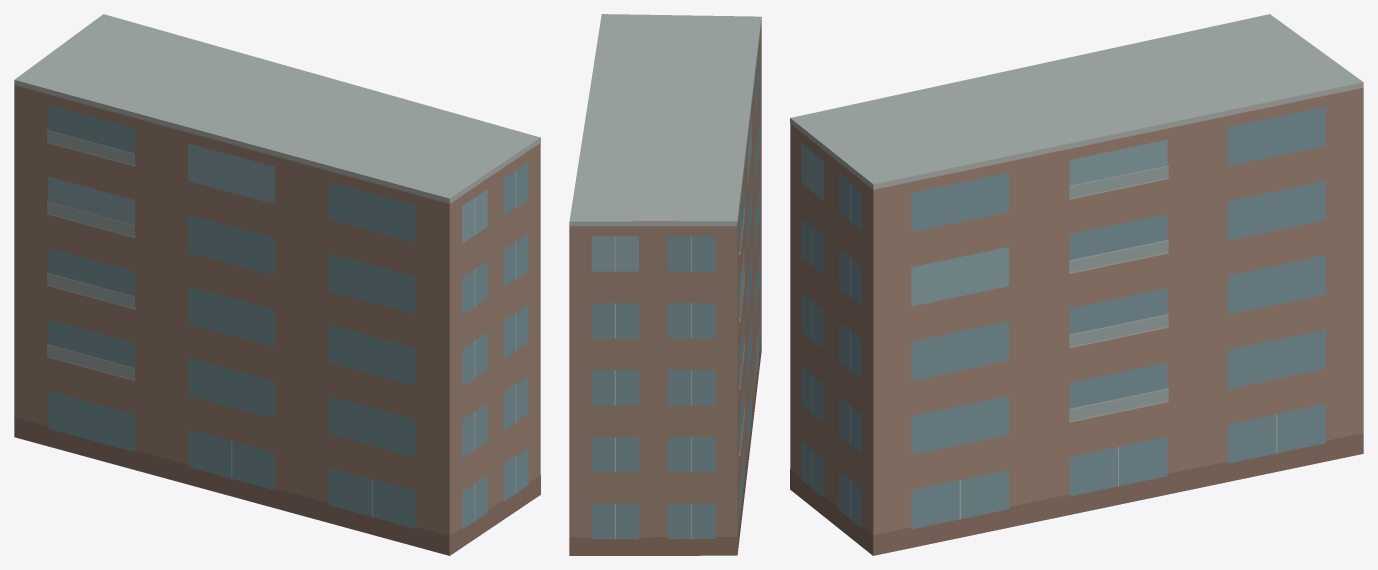
File: survey-upis-32929422.glb
The picture shows the model from 3 angles, left to right: view 1: azimuth 30°, elevation 25°; view 2: azimuth 150°, elevation 25°; view 3: azimuth 270°, elevation 25°; orthographic projection. The views are drawn at different scales.
Parts seen in each view (by area): view 1: survey-upis-32929422.tmp; view 2: survey-upis-32929422.tmp; view 3: survey-upis-32929422.tmp.
Part boxes in pixels (<box>): survey-upis-32929422.tmp: <box>14,14,540,555</box>; survey-upis-32929422.tmp: <box>569,14,761,555</box>; survey-upis-32929422.tmp: <box>790,14,1363,555</box>.
Bounding box in the file's own units: 16.34 × 16.6 × 23.23.
